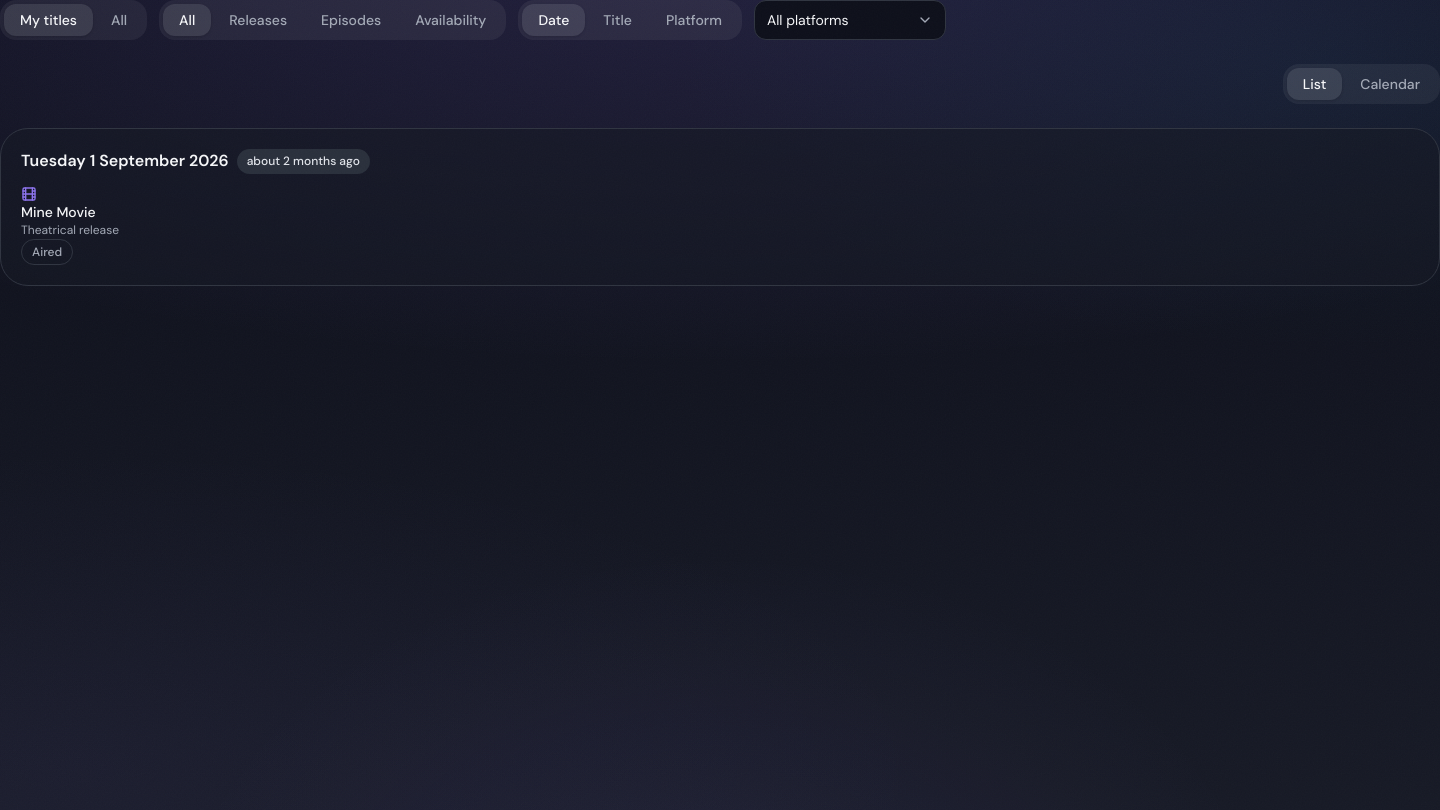
Test: TrackingList › switching sort to title drops the date-group panels for one flat, alphabetical list
Click the 1st button "All": (119,20) [95,4,143,36]
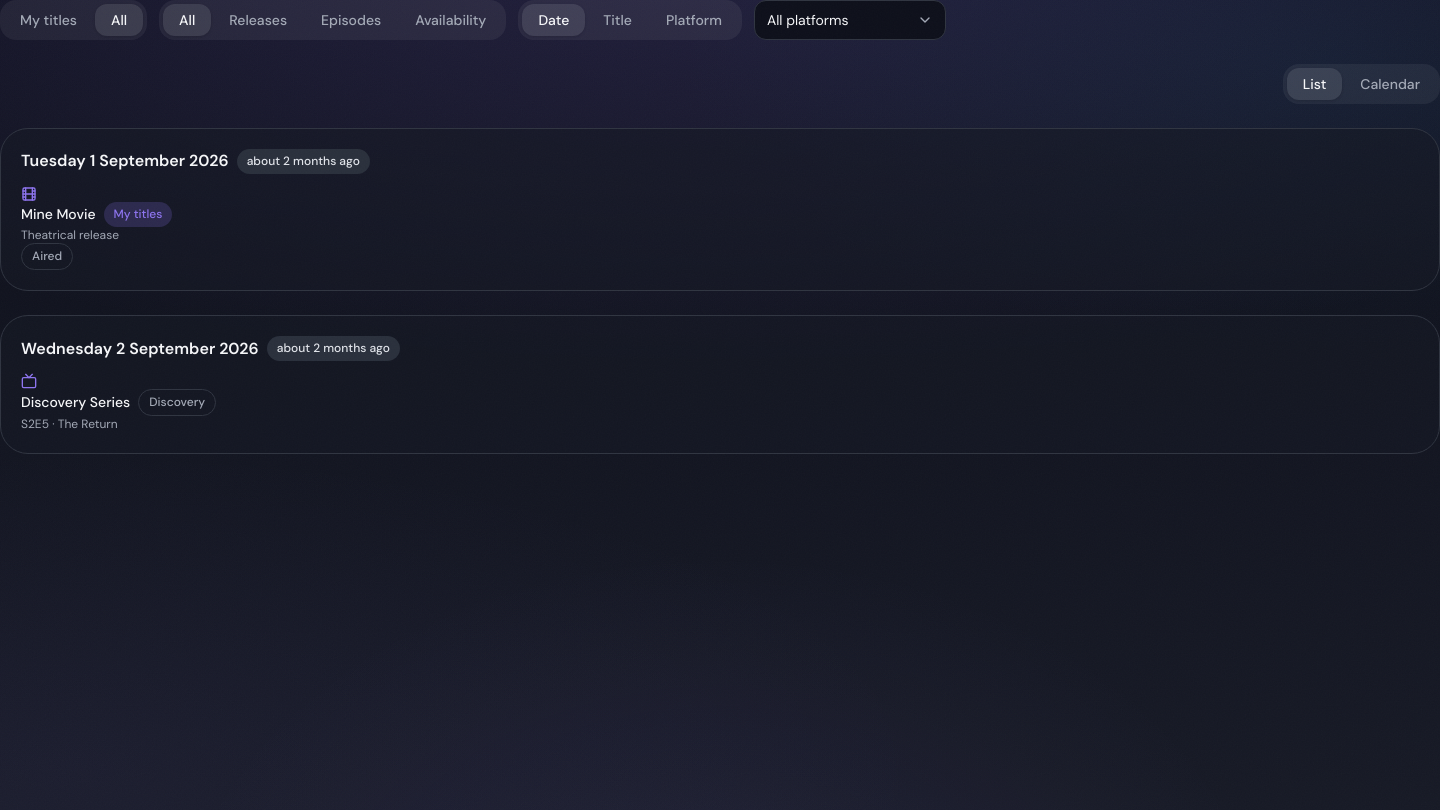
Click the button "Title": (618,20) [587,4,648,36]
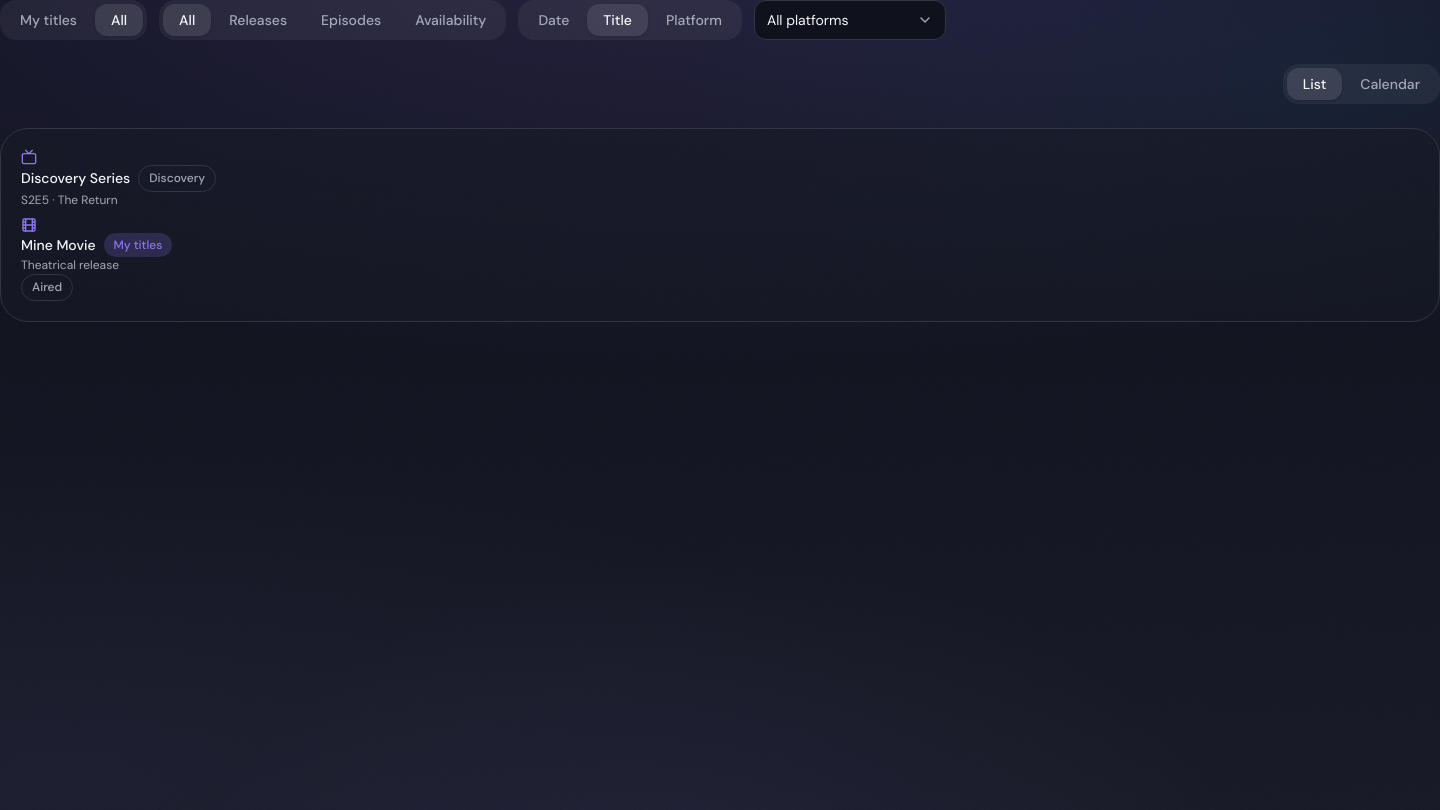
Expected: the heading "1 September 2026" is gone
Expected: the heading "2 September 2026" is gone
